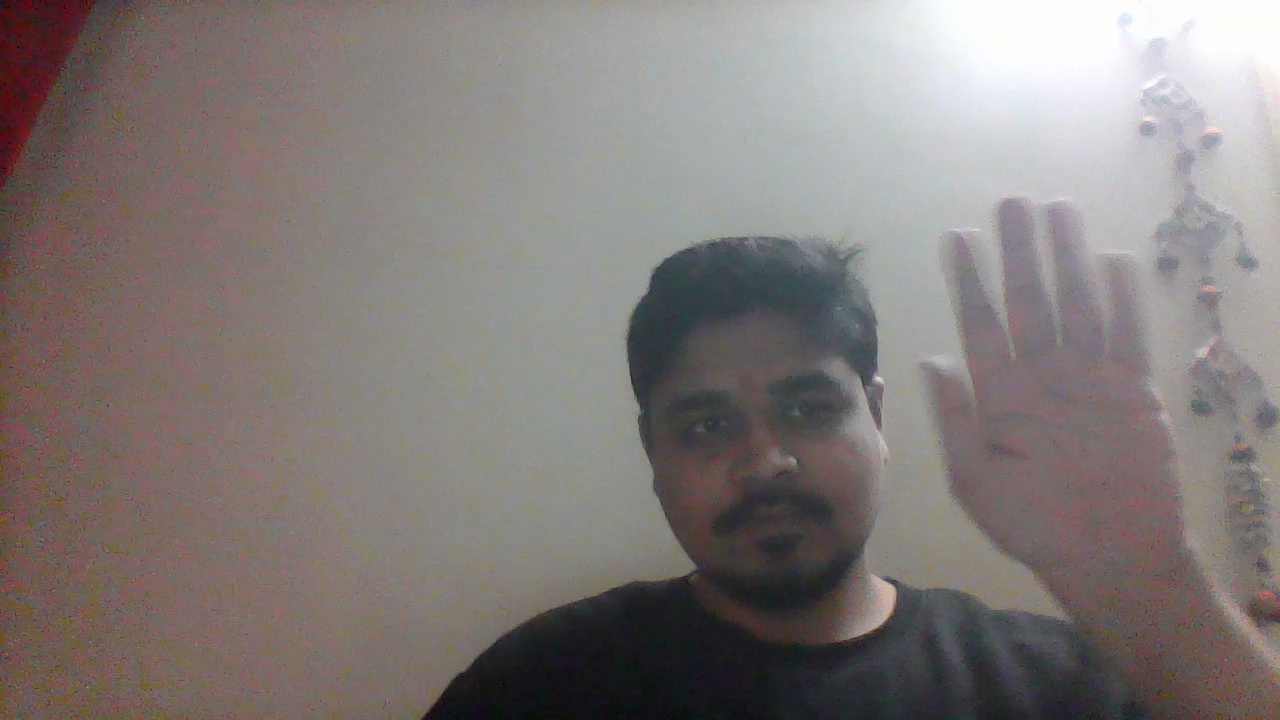Hello: (917, 193, 1195, 657)
